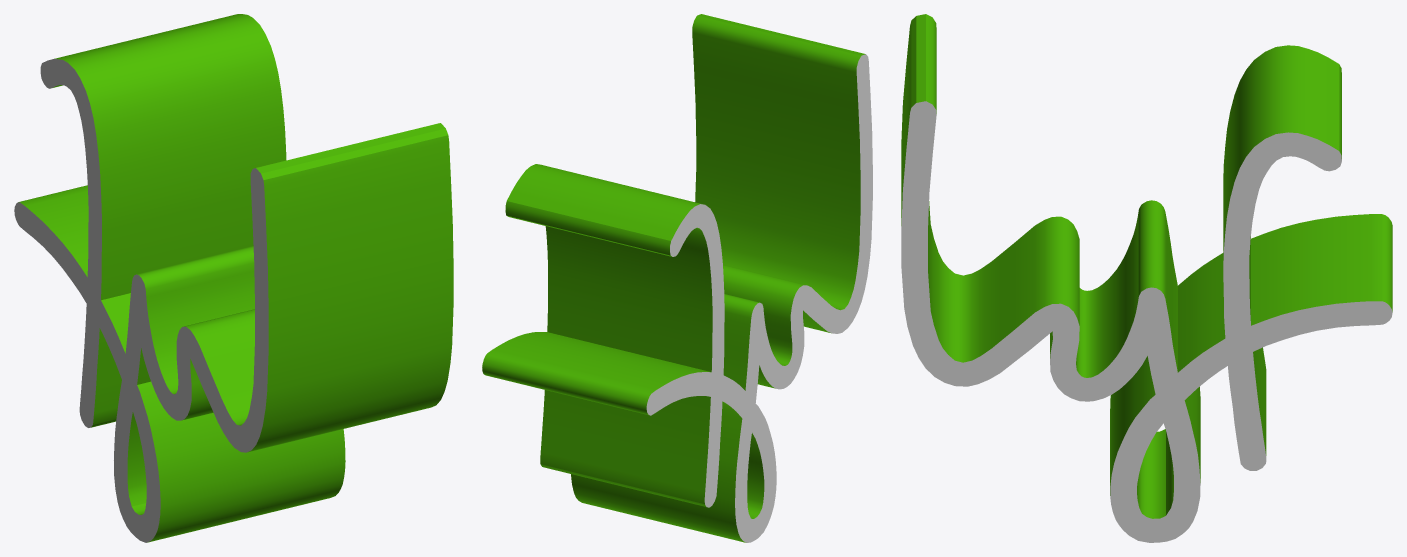
The model's file is lyf.fbx.
The picture shows the model from 3 angles, left to right: view 1: azimuth 30°, elevation 25°; view 2: azimuth 150°, elevation 25°; view 3: azimuth 270°, elevation 25°; orthographic projection. The views are drawn at different scales.
Parts seen in each view (by area): view 1: Cube; view 2: Cube; view 3: Cube.
Boxes of the visible parts, x1=… form: Cube: x1=14, y1=14, x2=453, y2=542; Cube: x1=482, y1=14, x2=872, y2=542; Cube: x1=901, y1=14, x2=1392, y2=542.
Size of the model in its own units: 238 by 100 by 236.
